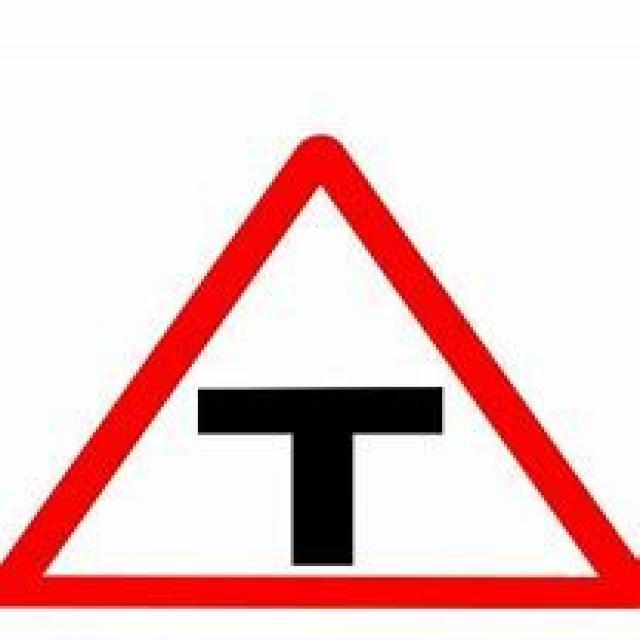t intersection: (21, 133, 627, 606)
